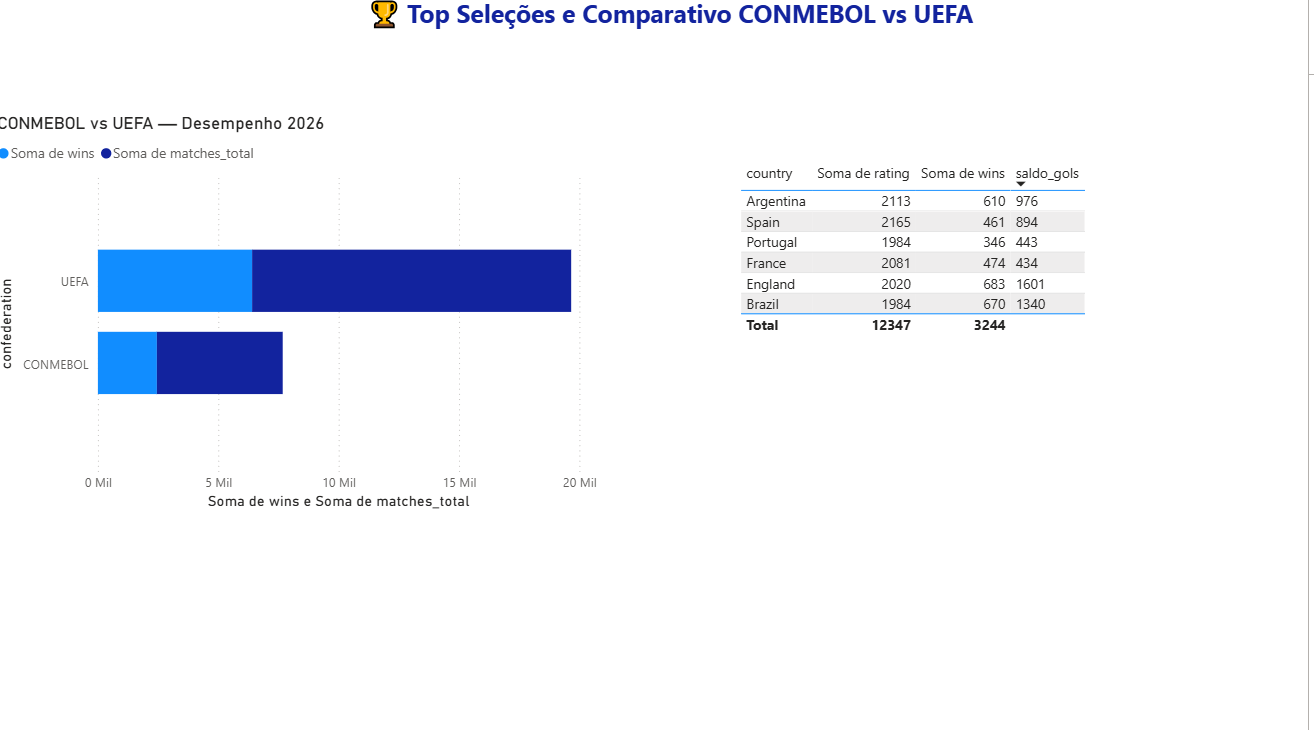

The page's visual inventory and layout, read from the dashboard file:
{"tool":"powerbi","page":{"name":" 🏆 Top Seleções e Comparativo CONMEBOL vs UEFA","canvas":[1280,720],"ordinal":1},"visuals":[{"type":"barChart","title":"CONMEBOL vs UEFA — Desempenho 2026","fields":{"Category":["elo_ratings_wc2026.confederation"],"Y":["Sum(elo_ratings_wc2026.wins)","Sum(elo_ratings_wc2026.matches_total)"]},"box":[0,118.7,593.3,391],"z":0},{"type":"tableEx","title":"Número de Seleções por Confederação — 2026","fields":{"Values":["elo_ratings_wc2026.country","Sum(elo_ratings_wc2026.rating)","Sum(elo_ratings_wc2026.wins)","elo_ratings_wc2026.saldo_gols"]},"box":[722.7,161.5,462,370.6],"z":1000},{"type":"textbox","box":[360.9,0,711,77.8],"z":2000}]}

Visuals, with their boxes in screenshot pixels (x1, y1, x2, y2), scaled from the page's 1280x720 canvas onto the 1314x730 screenshot:
"CONMEBOL vs UEFA — Desempenho 2026" barChart: l=0, t=120, r=609, b=517
"Número de Seleções por Confederação — 2026" tableEx: l=742, t=164, r=1216, b=539
textbox: l=370, t=0, r=1100, b=79
